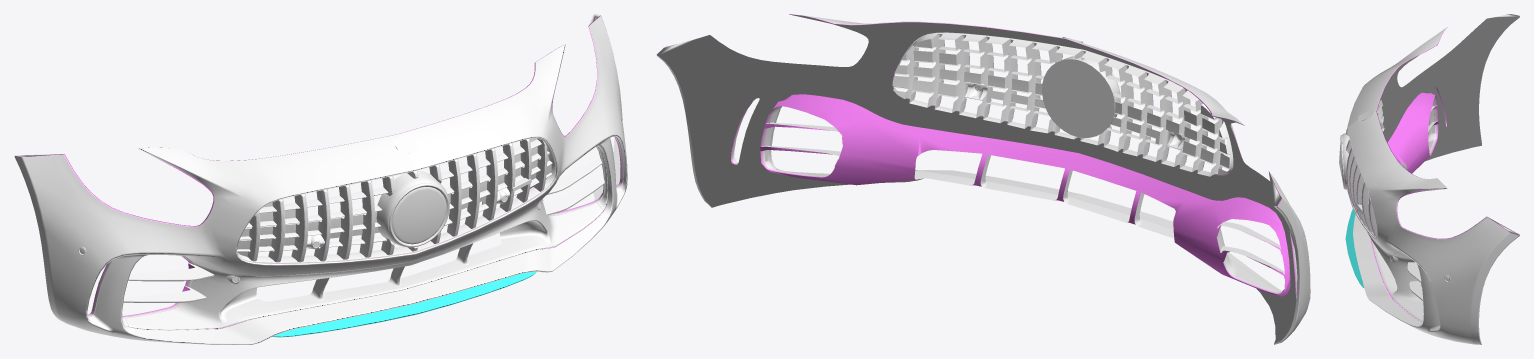
File: Car_MercedesBenz_AMGGT_2015_BumperF_SetGTR.fbx
3 renders of one model, left to right at view 1: azimuth 30°, elevation 25°; view 2: azimuth 150°, elevation 25°; view 3: azimuth 270°, elevation 25°, orthographic. The views are drawn at different scales.
Parts seen in each view (by area): view 1: BumperF 6; view 2: BumperF 6; view 3: BumperF 6.
Part boxes in pixels (<box>): BumperF 6: <box>14,14,627,344</box>; BumperF 6: <box>656,14,1310,344</box>; BumperF 6: <box>1339,14,1519,344</box>.
Size of the model in its own units: 1.95 by 0.5677 by 0.6755.
